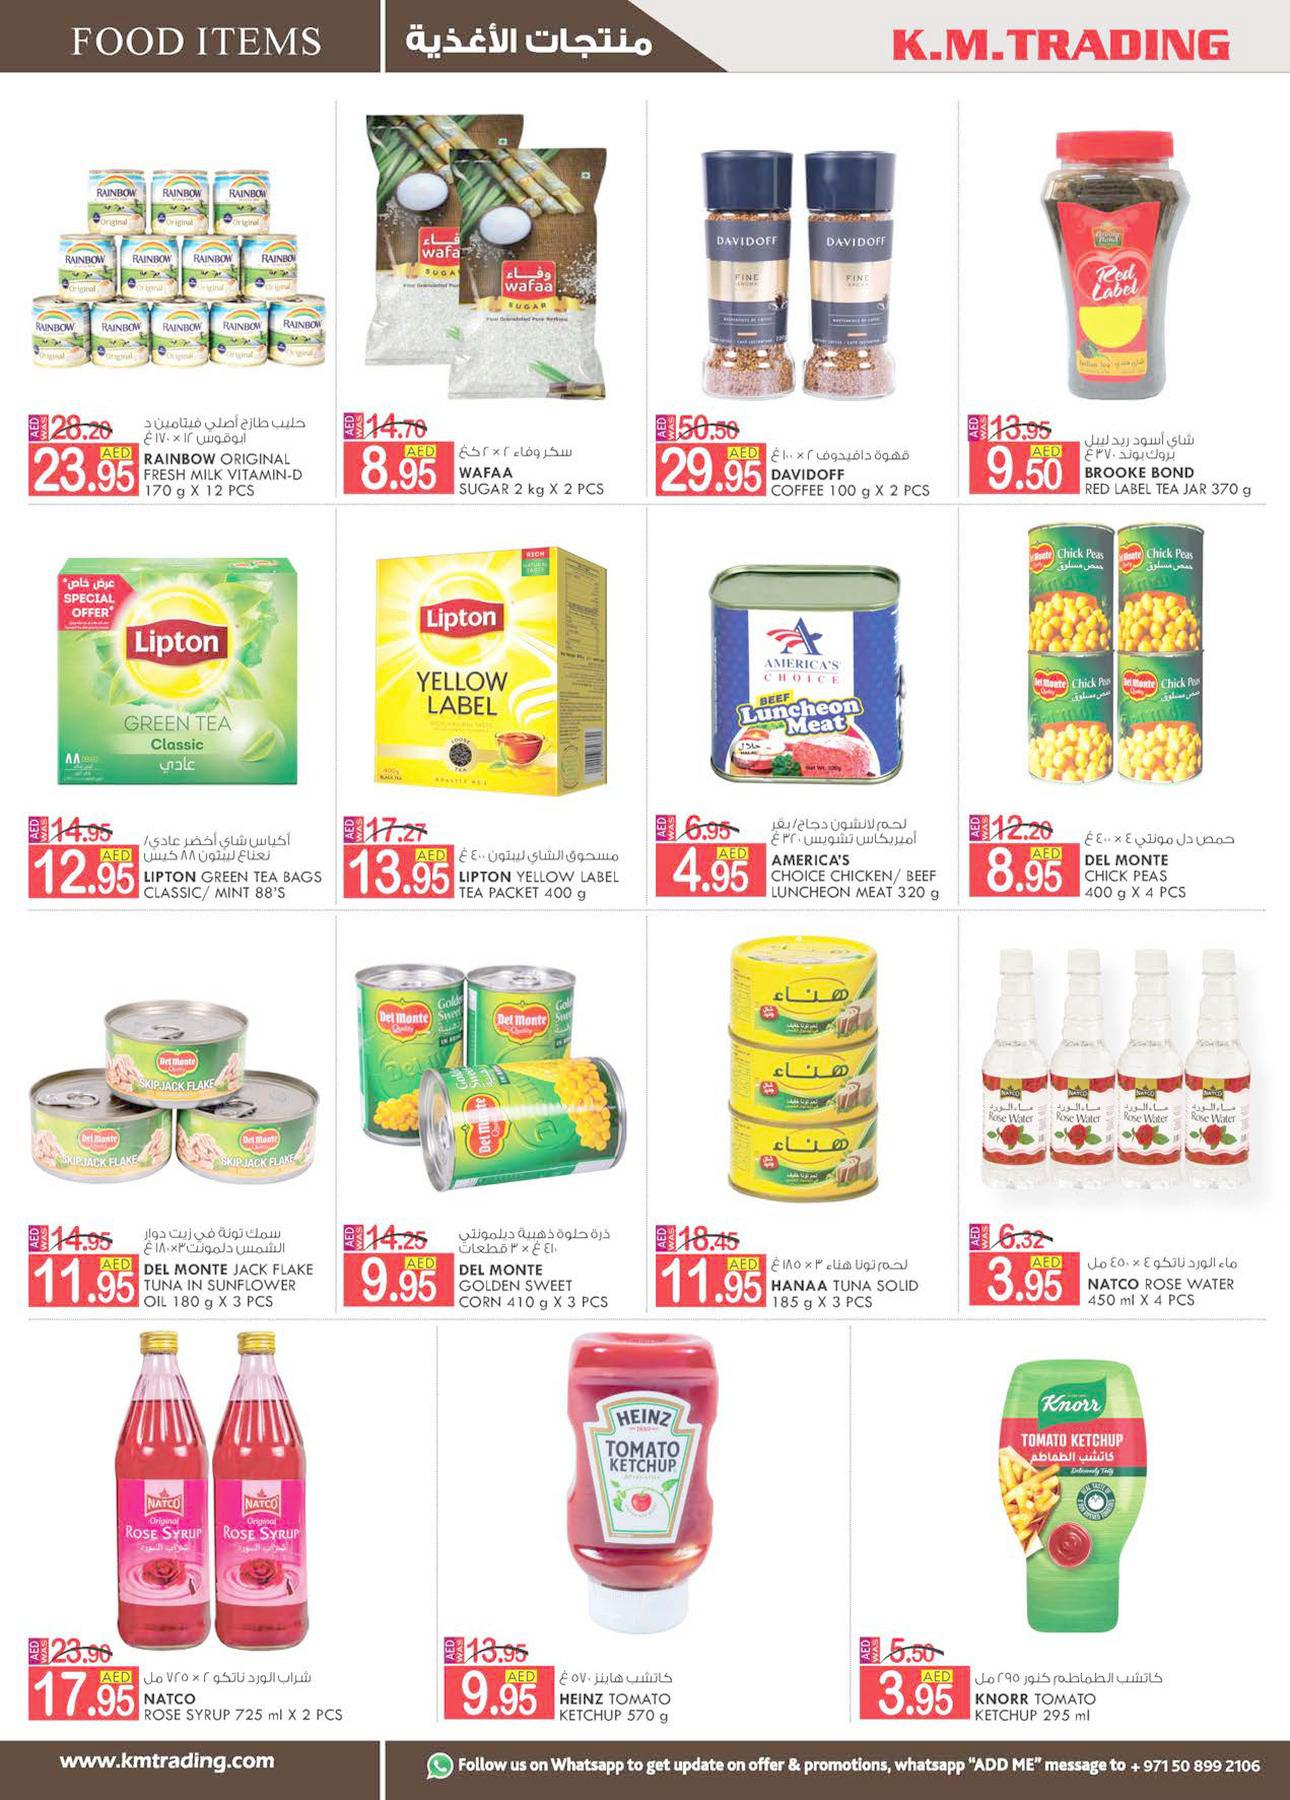text: (142, 1211, 327, 1314), (766, 808, 954, 906), (457, 1211, 632, 1313), (140, 816, 332, 908), (142, 406, 325, 502), (1079, 424, 1266, 505), (973, 1656, 1180, 1729), (141, 1666, 348, 1732), (1083, 825, 1248, 906), (768, 433, 947, 502), (455, 433, 637, 500), (455, 839, 639, 901), (769, 1246, 927, 1314), (1083, 1246, 1250, 1310), (557, 1662, 695, 1725)
